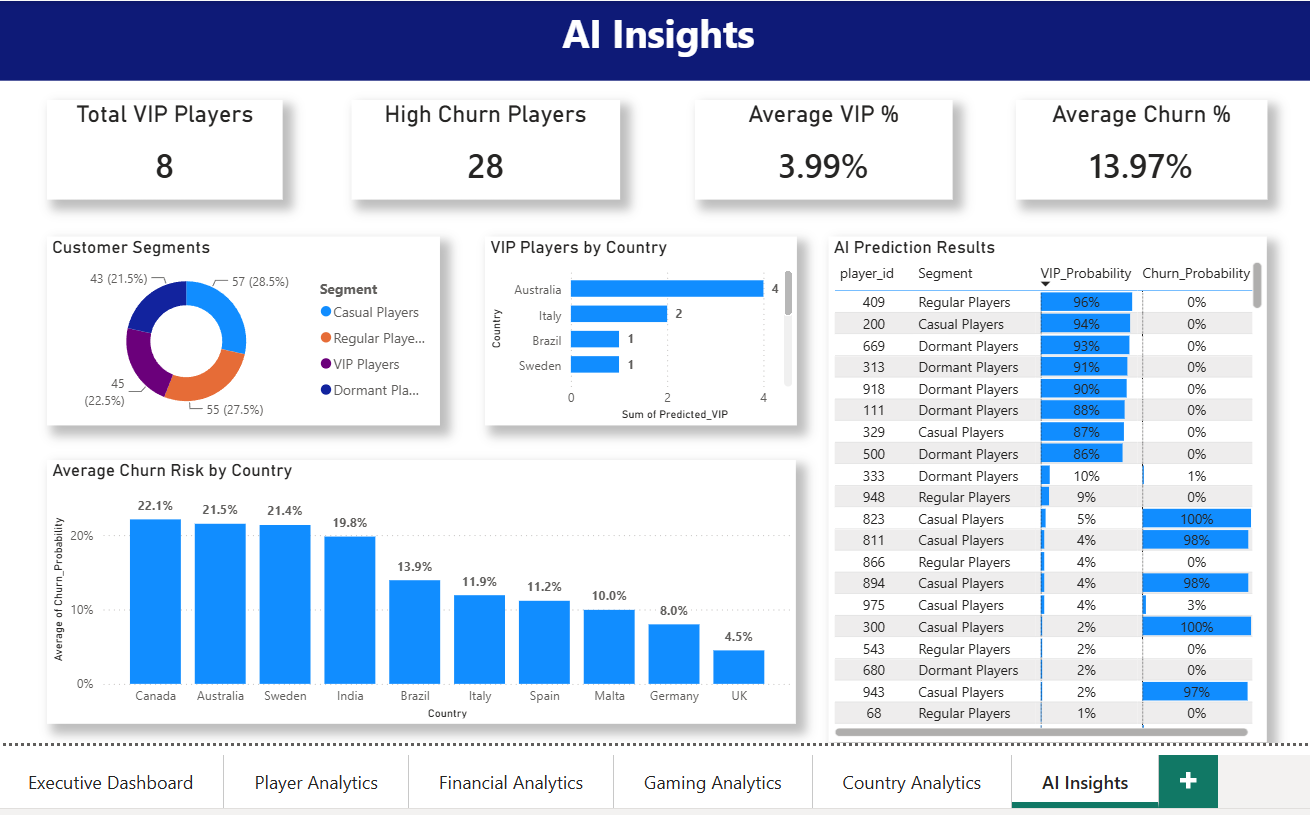

The dashboard page shown, as its layout file describes it:
{"tool":"powerbi","page":{"name":"AI Insights","canvas":[1280,720],"ordinal":5},"visuals":[{"type":"cardVisual","title":"Total VIP Players","fields":{"Data":["ai_predictions.Total VIP Players"]},"box":[46.9,95.4,228.6,96.9],"z":0},{"type":"cardVisual","title":"Average VIP %","fields":{"Data":["ai_predictions.Average VIP Probability"]},"box":[675.3,95.4,249.8,96.9],"z":1},{"type":"cardVisual","title":"Average Churn %","fields":{"Data":["ai_predictions.Average Churn Probability"]},"box":[987.3,95.4,243.8,96.9],"z":2},{"type":"cardVisual","title":"High Churn Players","fields":{"Data":["ai_predictions.High Churn Players"]},"box":[342.2,95.4,260.4,96.9],"z":3},{"type":"donutChart","title":"Customer Segments","fields":{"Category":["ai_predictions.Segment"],"Y":["CountNonNull(ai_predictions.player_id)"]},"box":[46.9,228.6,381.6,183.2],"z":4},{"type":"clusteredBarChart","title":"VIP Players by Country","fields":{"Category":["player_details.Country"],"Y":["Sum(ai_predictions.Predicted_VIP)"]},"box":[470.9,228.6,302.8,183.2],"z":5},{"type":"clusteredColumnChart","title":"Average Churn Risk by Country","fields":{"Category":["player_details.Country"],"Y":["Avg(ai_predictions.Churn_Probability)"]},"box":[46.9,445.2,726.8,255.9],"z":6},{"type":"tableEx","title":"AI Prediction Results","fields":{"Values":["ai_predictions.player_id","ai_predictions.Segment","ai_predictions.VIP_Probability","ai_predictions.Churn_Probability"]},"box":[805.6,228.6,425.5,490.6],"z":7},{"type":"textbox","box":[0,0,1279.5,77.2],"z":10}]}

Visuals, with their boxes on the page's 1280x720 design canvas (x1, y1, x2, y2). These are canvas units, not pixel positions in the 1310x815 screenshot, which may show the page scaled, cropped or inside an application window:
"Total VIP Players" cardVisual: x1=47 y1=95 x2=276 y2=192
"Average VIP %" cardVisual: x1=675 y1=95 x2=925 y2=192
"Average Churn %" cardVisual: x1=987 y1=95 x2=1231 y2=192
"High Churn Players" cardVisual: x1=342 y1=95 x2=603 y2=192
"Customer Segments" donutChart: x1=47 y1=229 x2=428 y2=412
"VIP Players by Country" clusteredBarChart: x1=471 y1=229 x2=774 y2=412
"Average Churn Risk by Country" clusteredColumnChart: x1=47 y1=445 x2=774 y2=701
"AI Prediction Results" tableEx: x1=806 y1=229 x2=1231 y2=719
textbox: x1=0 y1=0 x2=1280 y2=77
